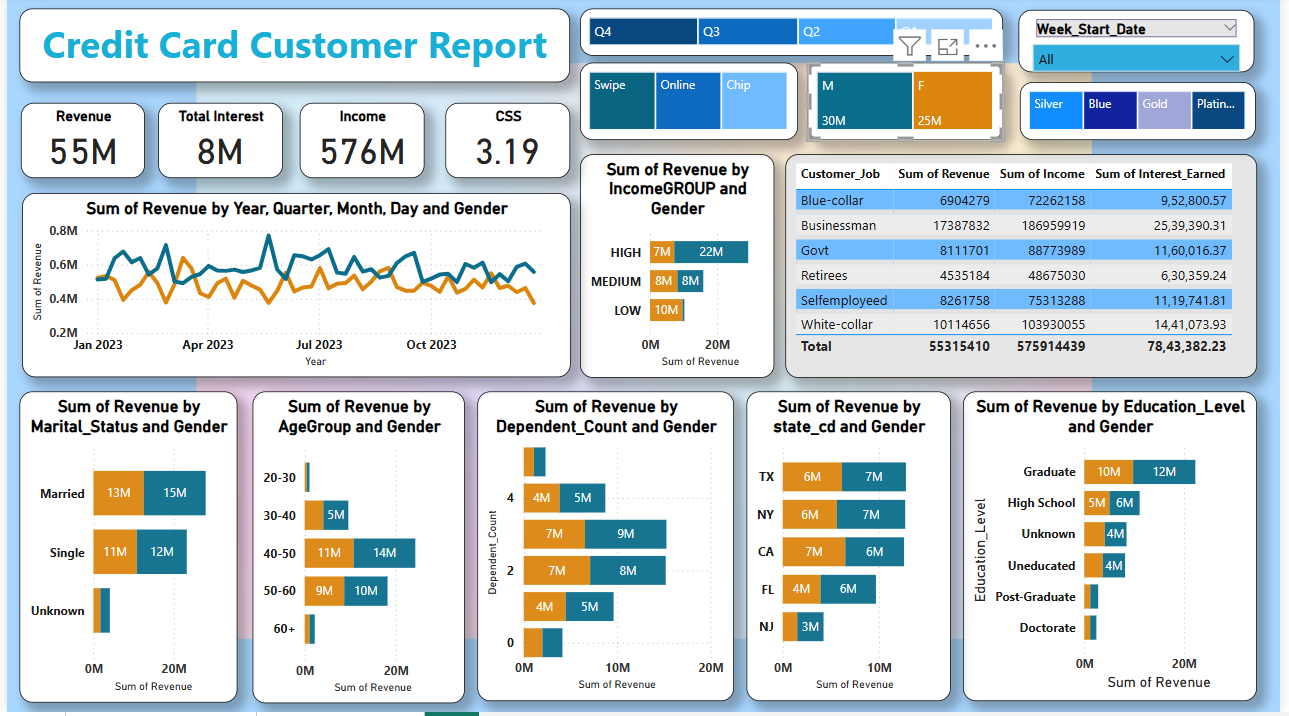

The dashboard page shown, as its layout file describes it:
{"tool":"powerbi","page":{"name":"CC CUSTOMER","canvas":[1280,720],"ordinal":2},"visuals":[{"type":"textbox","box":[12.6,12.6,553.8,73.9],"z":0},{"type":"barChart","fields":{"Y":["Sum(credit_card.Revenue)"],"Category":["customer.IncomeGROUP"],"Series":["customer.Gender"]},"box":[576.1,159,195.3,224.6],"z":1000},{"type":"tableEx","fields":{"Values":["customer.Customer_Job","Sum(credit_card.Revenue)","Sum(customer.Income)","Sum(credit_card.Interest_Earned)"]},"box":[782.6,159,474.3,224.6],"z":2000},{"type":"card","title":" Revenue","fields":{"Values":["Sum(credit_card.Revenue)"]},"box":[13.9,107.4,125,76],"z":3000},{"type":"card","title":"Income","fields":{"Values":["Sum(customer.Income)"]},"box":[294.3,107.4,125.5,75.3],"z":4000},{"type":"card","title":"Total Interest","fields":{"Values":["Sum(credit_card.Interest_Earned)"]},"box":[152,107.4,125.5,75.3],"z":5000},{"type":"card","title":"CSS","fields":{"Values":["Avg(customer.Cust_Satisfaction_Score)"]},"box":[440.8,107.4,125.5,75.3],"z":6000},{"type":"slicer","fields":{"Values":["credit_card.Week_Start_Date"]},"box":[1016.9,13.9,237.1,62.8],"z":7000},{"type":"treemap","fields":{"Group":["credit_card.Qtr"],"Values":["Avg(customer.Client_Num)"]},"box":[576.1,12.6,425.5,47.4],"z":8000},{"type":"treemap","fields":{"Group":["credit_card.Card_Category"],"Values":["Avg(customer.Client_Num)"]},"box":[1018.3,86.5,237.1,58.6],"z":10000},{"type":"lineChart","fields":{"Y":["Sum(credit_card.Revenue)"],"Category":["credit_card.Week_Start_Date.Variation.Date Hierarchy.Year","credit_card.Week_Start_Date.Variation.Date Hierarchy.Quarter","credit_card.Week_Start_Date.Variation.Date Hierarchy.Month","credit_card.Week_Start_Date.Variation.Date Hierarchy.Day"],"Series":["customer.Gender"]},"box":[15.3,198.1,551,185.5],"z":12000},{"type":"treemap","fields":{"Group":["customer.Gender"],"Values":["Sum(credit_card.Revenue)"]},"box":[804.9,67,196.7,78.1],"z":13000},{"type":"barChart","fields":{"Y":["Sum(credit_card.Revenue)"],"Category":["customer.AgeGroup"],"Series":["customer.Gender"]},"box":[246.9,397.6,213.4,313.9],"z":14000},{"type":"barChart","fields":{"Y":["Sum(credit_card.Revenue)"],"Category":["customer.Dependent_Count"],"Series":["customer.Gender"]},"box":[472.9,397.6,258.1,311.1],"z":15000},{"type":"barChart","fields":{"Y":["Sum(credit_card.Revenue)"],"Category":["customer.Education_Level"],"Series":["customer.Gender"]},"box":[961.1,397.6,295.7,311.1],"z":16000},{"type":"barChart","fields":{"Y":["Sum(credit_card.Revenue)"],"Category":["customer.state_cd"],"Series":["customer.Gender"]},"box":[743.5,397.6,205.1,311.1],"z":17000},{"type":"barChart","fields":{"Y":["Sum(credit_card.Revenue)"],"Category":["customer.Marital_Status"],"Series":["customer.Gender"]},"box":[12.6,397.6,219,312.5],"z":17001},{"type":"treemap","fields":{"Group":["credit_card.Use Chip"],"Values":["Avg(customer.Client_Num)"]},"box":[576.1,67,219,78.1],"z":17002}]}

Visuals, with their boxes in screenshot pixels (x1, y1, x2, y2), scaled from the page's 1280x720 canvas onto the 1289x716 screenshot:
textbox: BBox(13, 13, 570, 86)
barChart - Sum(credit_card.Revenue) x customer.IncomeGROUP: BBox(580, 158, 777, 381)
tableEx - customer.Customer_Job x Sum(credit_card.Revenue): BBox(788, 158, 1266, 381)
" Revenue" card: BBox(14, 107, 140, 182)
"Income" card: BBox(296, 107, 423, 182)
"Total Interest" card: BBox(153, 107, 279, 182)
"CSS" card: BBox(444, 107, 570, 182)
slicer - credit_card.Week_Start_Date: BBox(1024, 14, 1263, 76)
treemap - credit_card.Qtr x Avg(customer.Client_Num): BBox(580, 13, 1009, 60)
treemap - credit_card.Card_Category x Avg(customer.Client_Num): BBox(1025, 86, 1264, 144)
lineChart - Sum(credit_card.Revenue) x credit_card.Week_Start_Date.Variation.Date Hierarchy.Year: BBox(15, 197, 570, 381)
treemap - customer.Gender x Sum(credit_card.Revenue): BBox(811, 67, 1009, 144)
barChart - Sum(credit_card.Revenue) x customer.AgeGroup: BBox(249, 395, 464, 708)
barChart - Sum(credit_card.Revenue) x customer.Dependent_Count: BBox(476, 395, 736, 705)
barChart - Sum(credit_card.Revenue) x customer.Education_Level: BBox(968, 395, 1266, 705)
barChart - Sum(credit_card.Revenue) x customer.state_cd: BBox(749, 395, 955, 705)
barChart - Sum(credit_card.Revenue) x customer.Marital_Status: BBox(13, 395, 233, 706)
treemap - credit_card.Use Chip x Avg(customer.Client_Num): BBox(580, 67, 801, 144)
